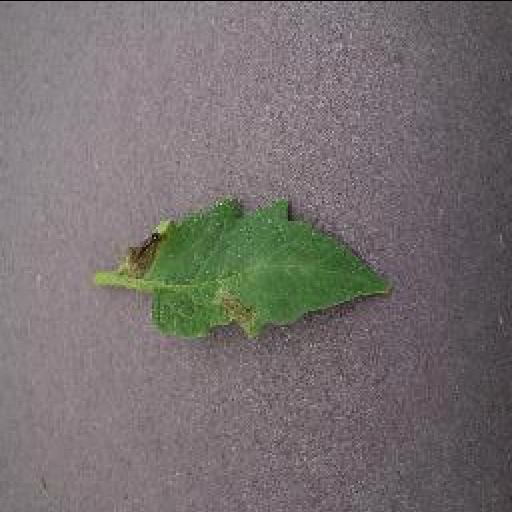disease_tomato: (118, 196, 396, 340)
